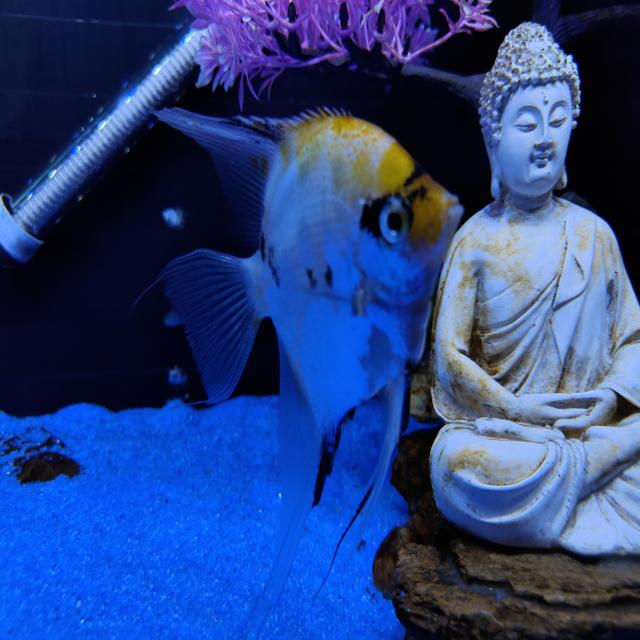Fish: (157, 108, 462, 634)
